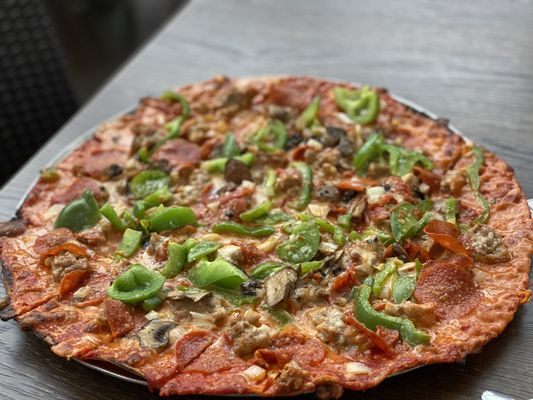sandwich: (1, 75, 531, 398)
